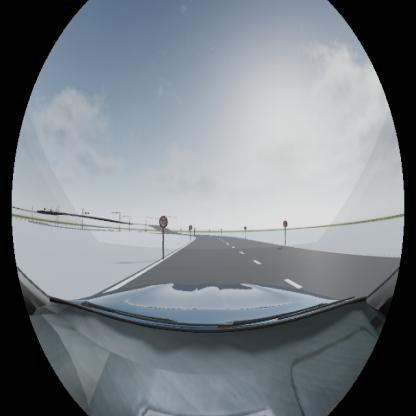Speed Limit 70: (159, 216, 168, 228)
